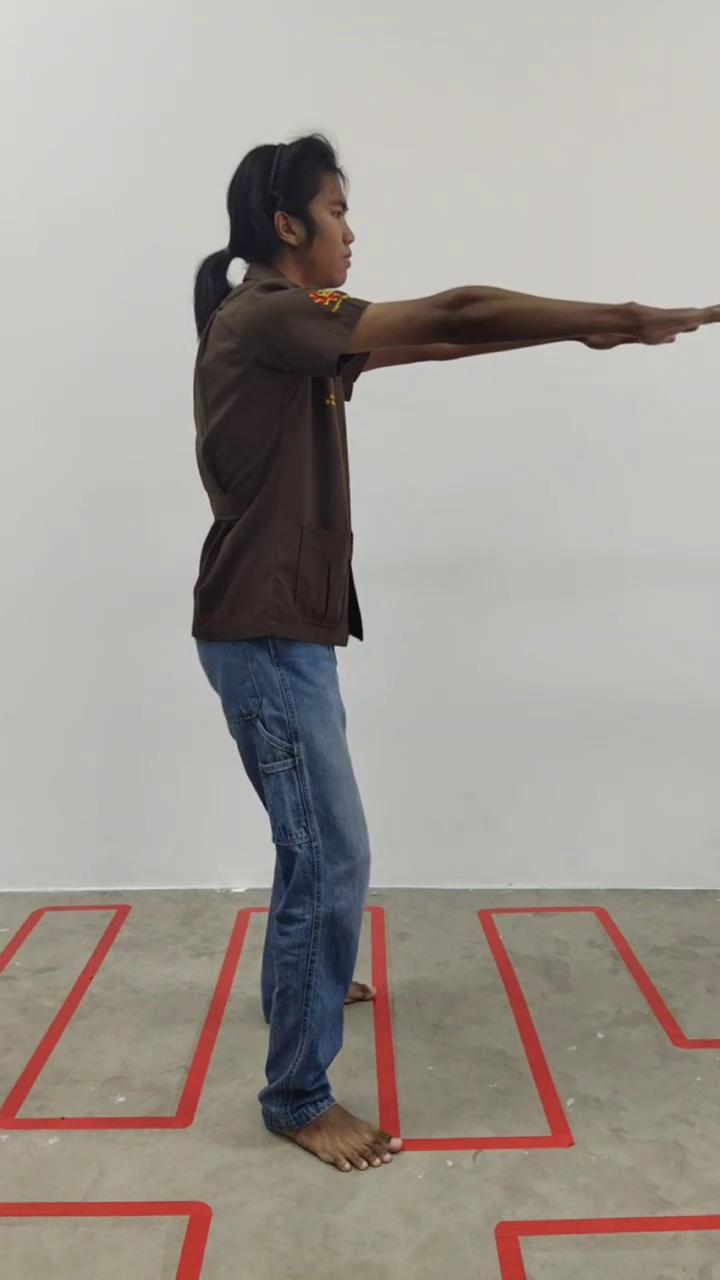squat up: (191, 134, 706, 1178)
